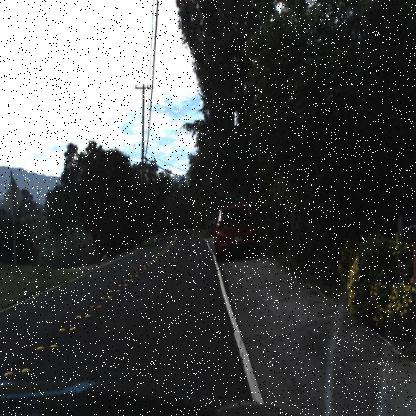car: (210, 200, 264, 258)
